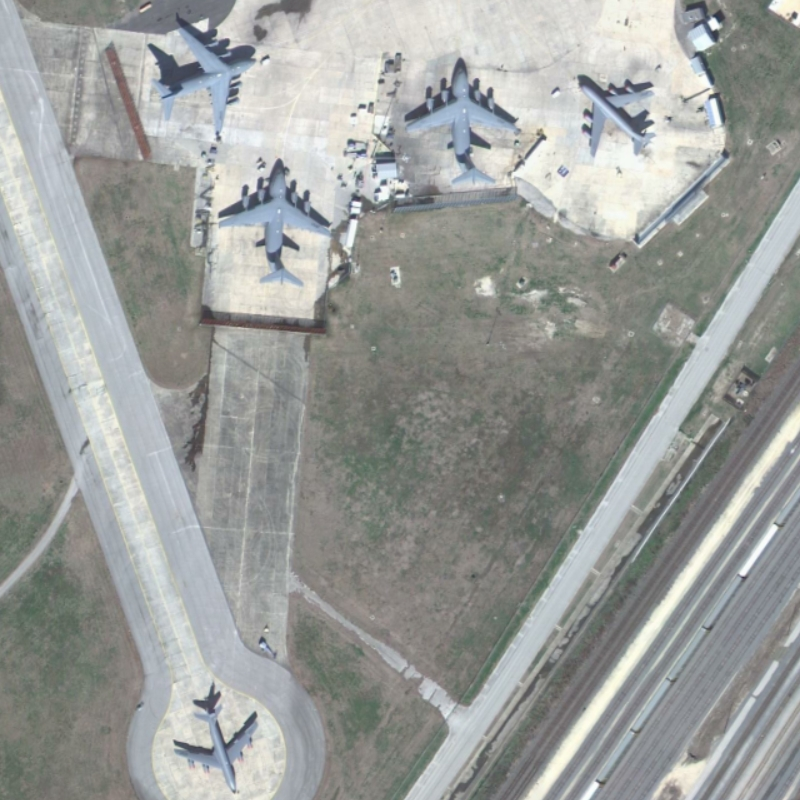A14: (162, 694, 266, 800), (570, 67, 665, 162)
A3: (398, 46, 528, 190), (209, 155, 338, 272), (145, 16, 260, 144)
